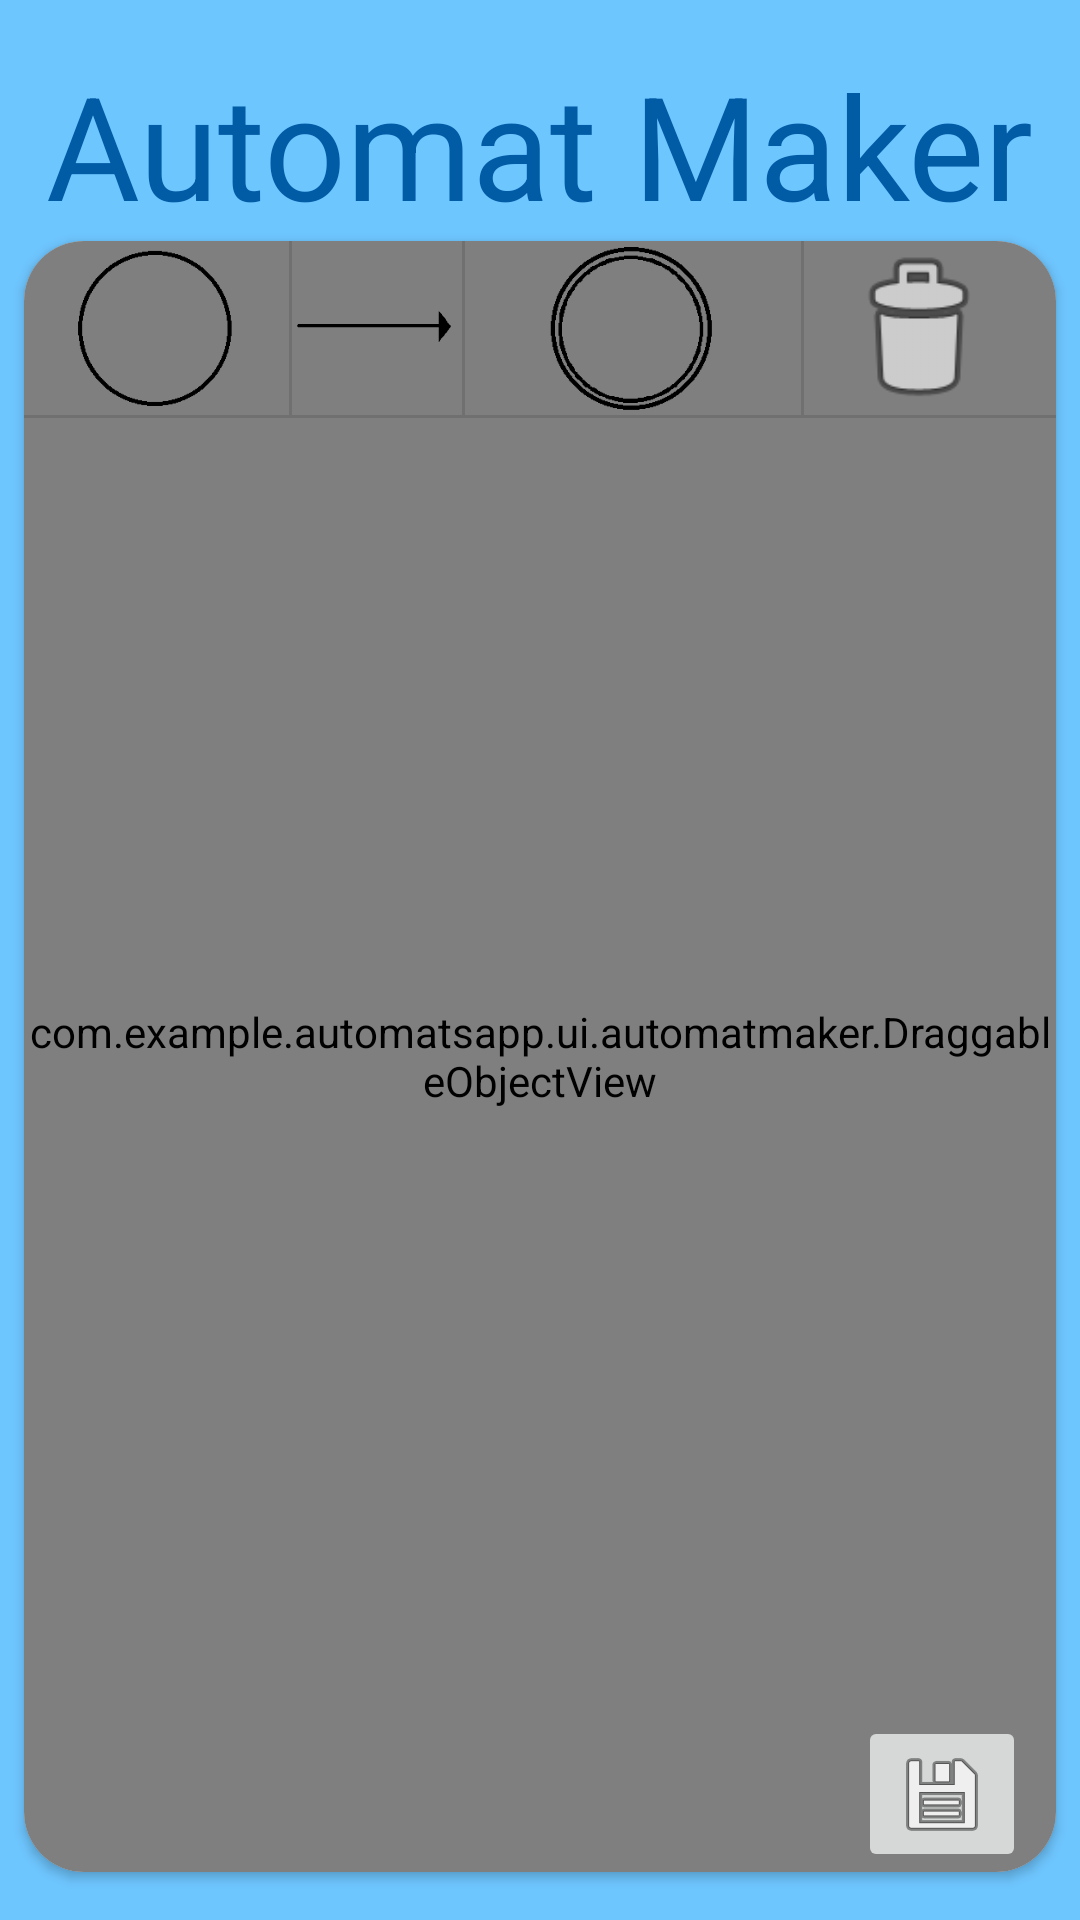

Icon click points for this 1080px×1920px phone screenshot, format (x=x, y=y):
arrow: (x=374, y=327)
automat circle: (x=156, y=328)
delete: (x=919, y=326)
save: (x=942, y=1794)
